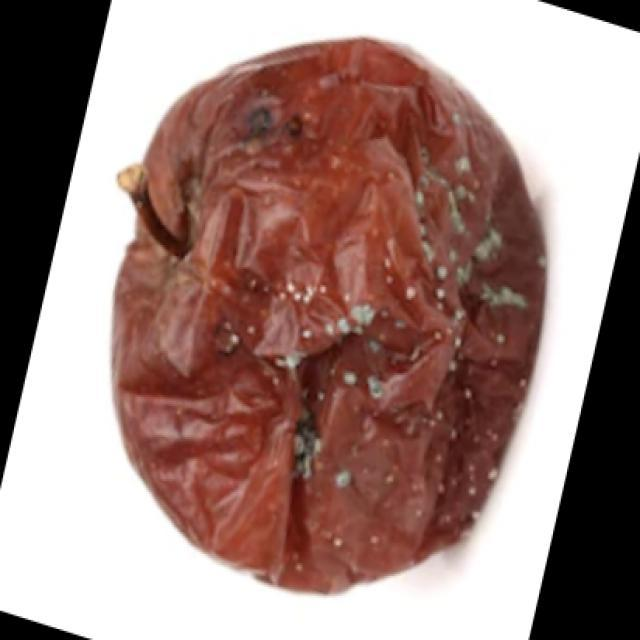Rotten: (74, 40, 554, 595)
